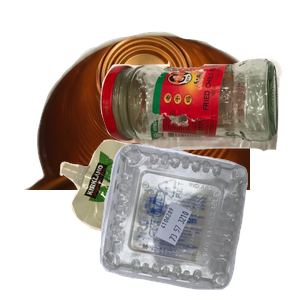glass: (98, 56, 300, 201)
metal: (21, 29, 261, 209)
plastic: (97, 141, 300, 300)
trash: (57, 137, 257, 300)
